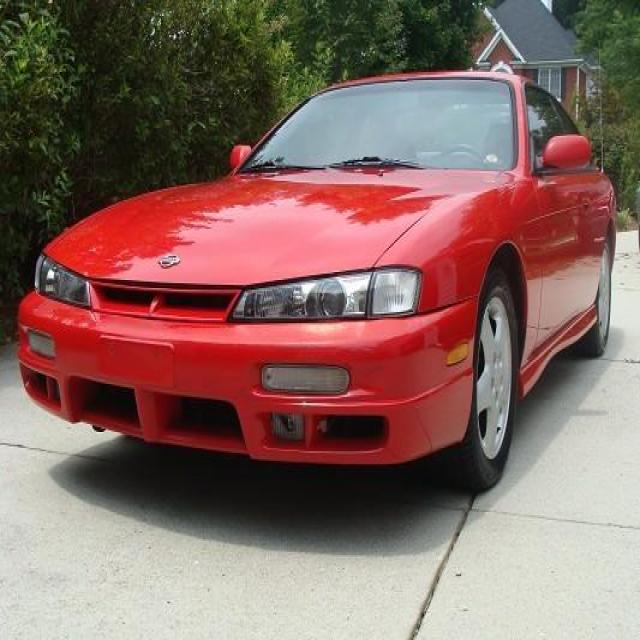Car: (10, 52, 622, 511)
